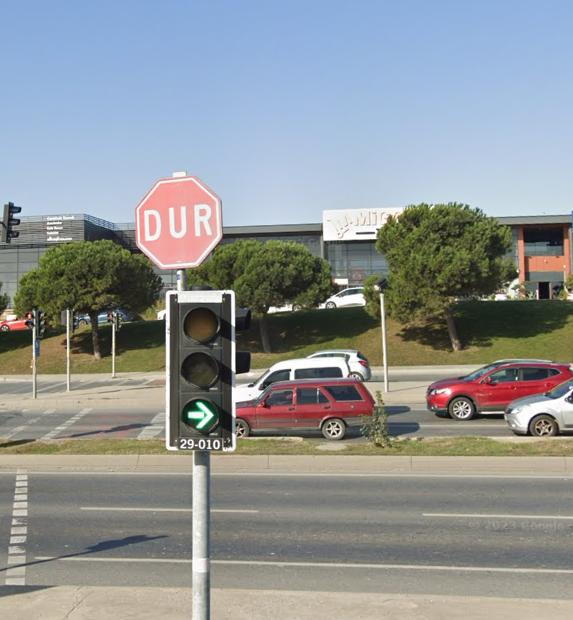greenlight: (167, 291, 240, 451)
stop: (142, 177, 221, 265)
